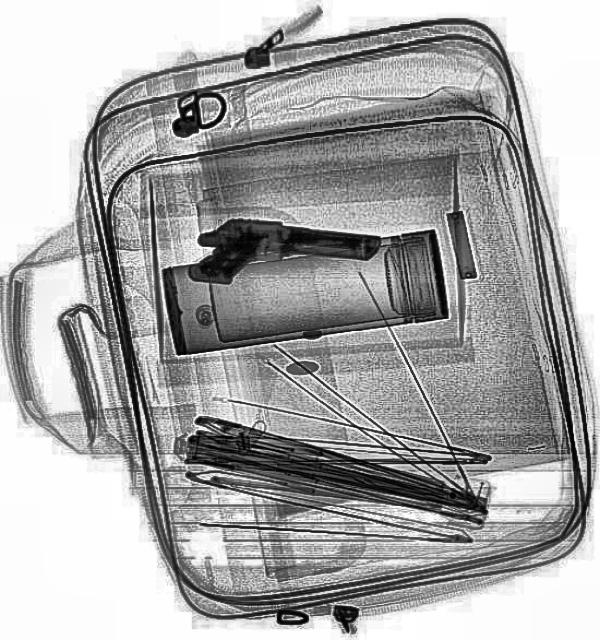Gun: (186, 210, 382, 304)
